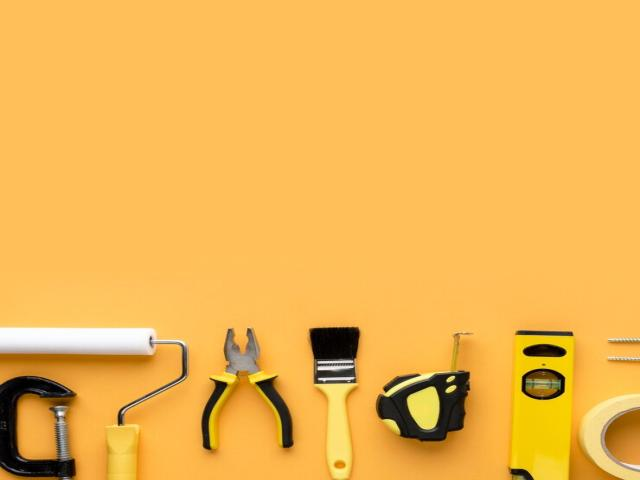Pliers: (202, 327, 294, 450)
Tape measure: (377, 332, 470, 442)
